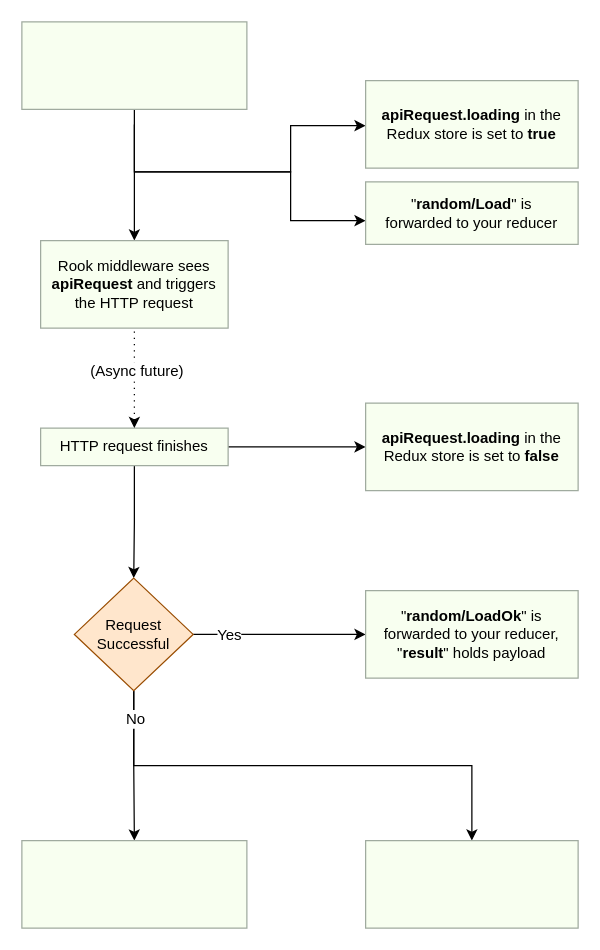
This 600x950 diagram has some shape labels left out. Each missing label, with the centre of its shape:
" random/LoadFail " is forwarded to your reducer, " error " holds the error: the point at 471,883
apiRequest.loadError in the Redux store is set to { msg, stack }: the point at 134,883
Dispatch a " random/Load " action that has an apiRequest property: the point at 134,65
